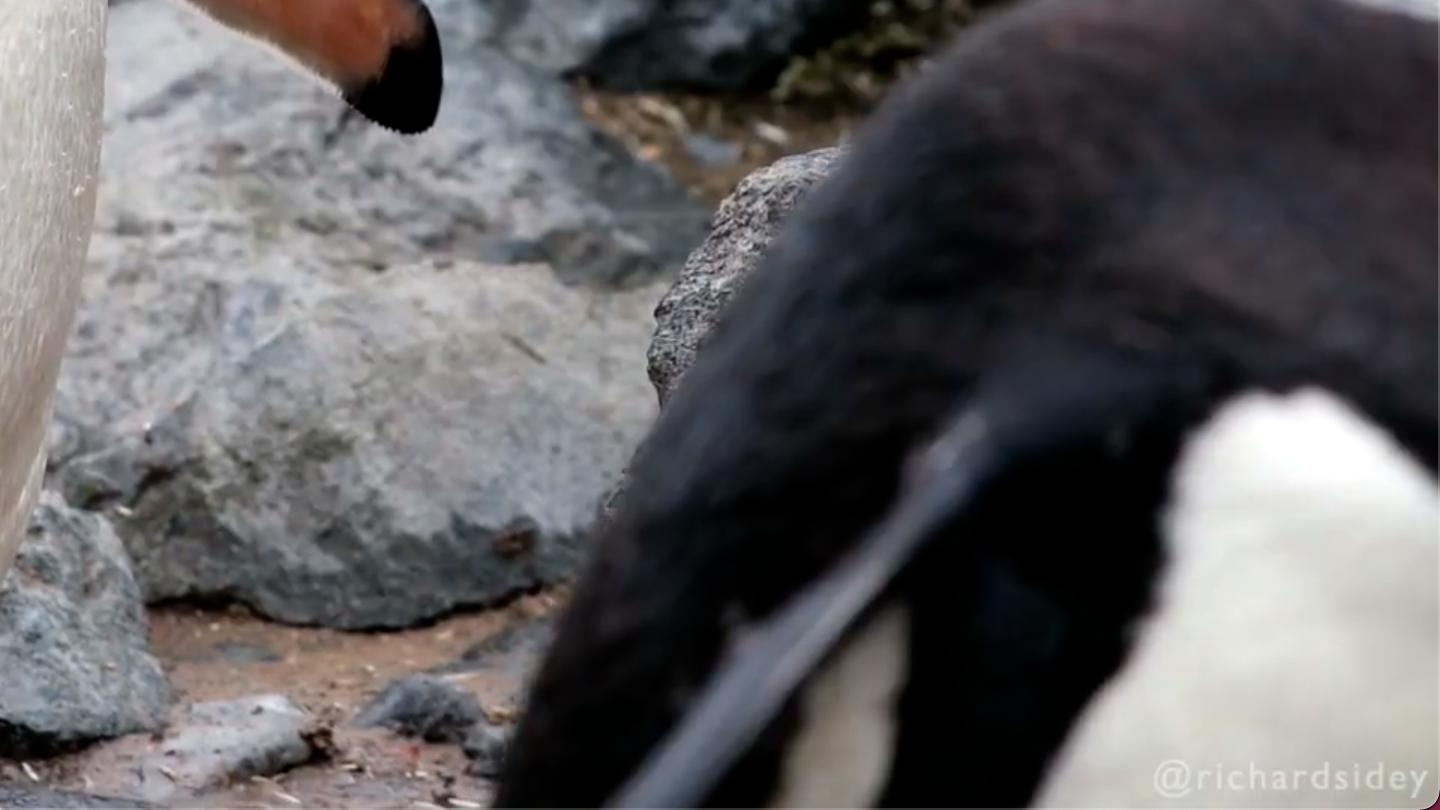Chinstrap Penguin: (0, 0, 456, 773)
